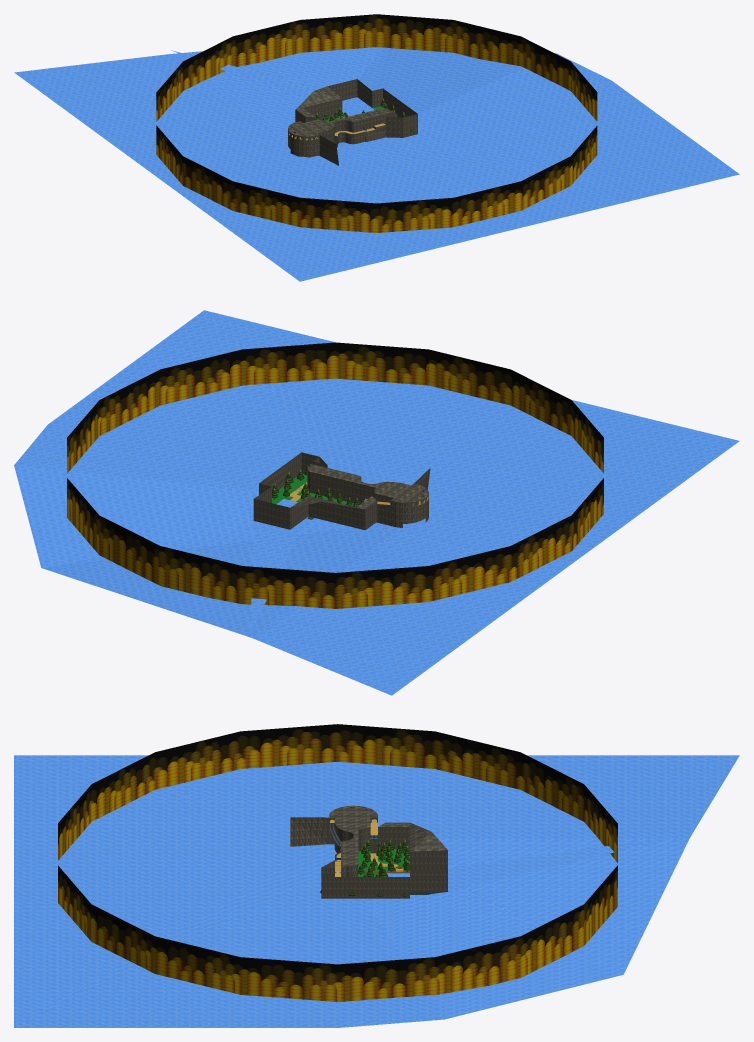
3 views of the same model, one above another, from view 1: azimuth 30°, elevation 25°; view 2: azimuth 150°, elevation 25°; view 3: azimuth 270°, elevation 25° (orthographic). The views are drawn at different scales.
Parts seen in each view (by area): view 1: Water.014, MountainBackground, Mountains; view 2: Water.014, MountainBackground, Mountains, Trees.004; view 3: Water.014, MountainBackground, Mountains, Trees.004.
Boxes of the visible parts, bbox=[...] form: Water.014: bbox=[14, 47, 739, 281]; MountainBackground: bbox=[156, 14, 597, 232]; Mountains: bbox=[288, 79, 417, 165]; Water.014: bbox=[14, 310, 739, 695]; MountainBackground: bbox=[67, 342, 603, 608]; Mountains: bbox=[253, 452, 430, 530]; Trees.004: bbox=[272, 466, 365, 522]; Water.014: bbox=[14, 755, 739, 1027]; MountainBackground: bbox=[58, 724, 617, 1001]; Mountains: bbox=[290, 805, 447, 898]; Trees.004: bbox=[320, 840, 409, 896].
Size of the model in its own units: 480181 by 41415 by 540285.
Materials: 19 (19 with a texture image).
